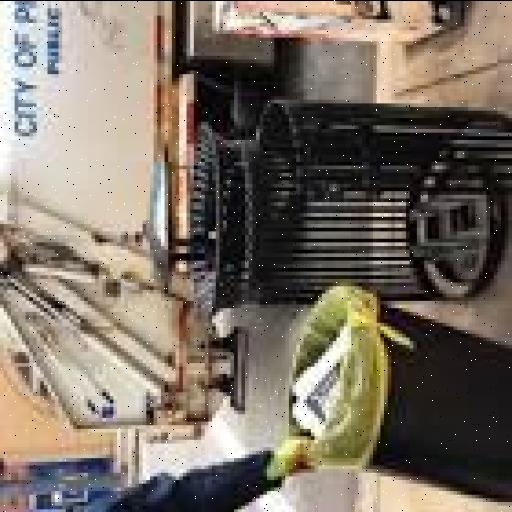poubelle_pleine: (239, 288, 512, 498)
poubelle_vide: (157, 91, 512, 304)
